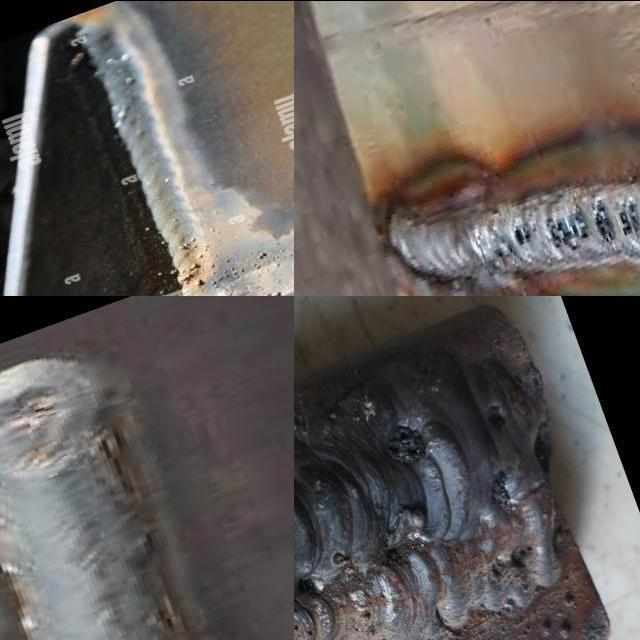defect: (542, 195, 591, 256), (176, 234, 210, 294), (389, 419, 428, 466), (490, 541, 535, 581), (590, 197, 618, 249), (488, 465, 514, 515), (615, 194, 640, 240), (210, 258, 246, 288), (512, 212, 536, 249), (483, 401, 505, 434), (294, 568, 316, 598), (250, 248, 267, 259), (269, 259, 281, 268), (266, 289, 282, 295), (251, 262, 261, 269)
